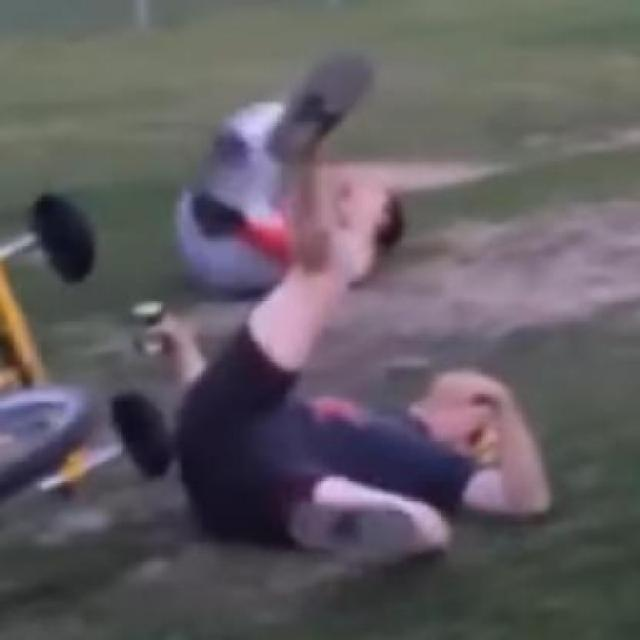fall: (157, 233, 549, 569), (183, 90, 403, 293)
